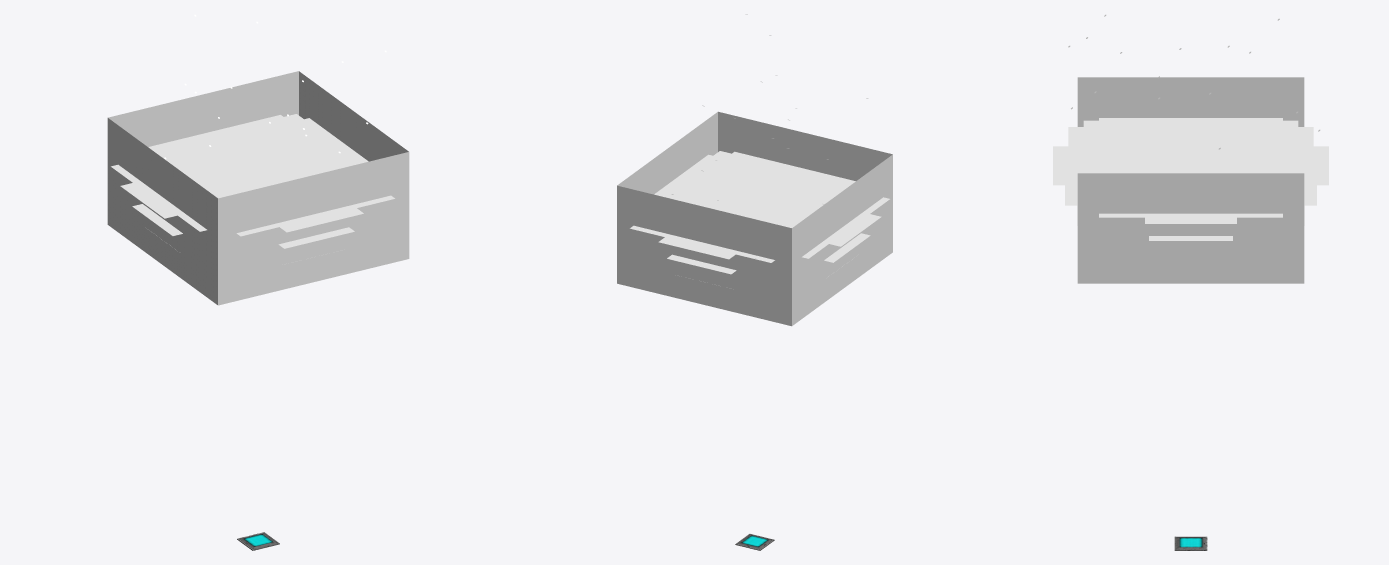
File: jumpPadNew.glb
3 renders of one model, left to right at view 1: azimuth 30°, elevation 25°; view 2: azimuth 150°, elevation 25°; view 3: azimuth 270°, elevation 25°, orthographic. The views are drawn at different scales.
Visible parts, largest first — view 1: Mesh_0065.rip_noesis_meshnode_0000, Mesh_0064.rip_noesis_meshnode_0000; view 2: Mesh_0065.rip_noesis_meshnode_0000, Mesh_0064.rip_noesis_meshnode_0000; view 3: Mesh_0065.rip_noesis_meshnode_0000, Mesh_0064.rip_noesis_meshnode_0000.
Part boxes in pixels (x1,y1,x2,y2): Mesh_0065.rip_noesis_meshnode_0000: (107, 71, 409, 305); Mesh_0064.rip_noesis_meshnode_0000: (111, 114, 394, 249); Mesh_0065.rip_noesis_meshnode_0000: (617, 111, 892, 326); Mesh_0064.rip_noesis_meshnode_0000: (630, 151, 889, 276); Mesh_0065.rip_noesis_meshnode_0000: (1077, 77, 1304, 283); Mesh_0064.rip_noesis_meshnode_0000: (1053, 118, 1328, 240).
Bounding box in the file's own units: 11.34 × 18.13 × 11.34.
11 materials, 11 textured.
